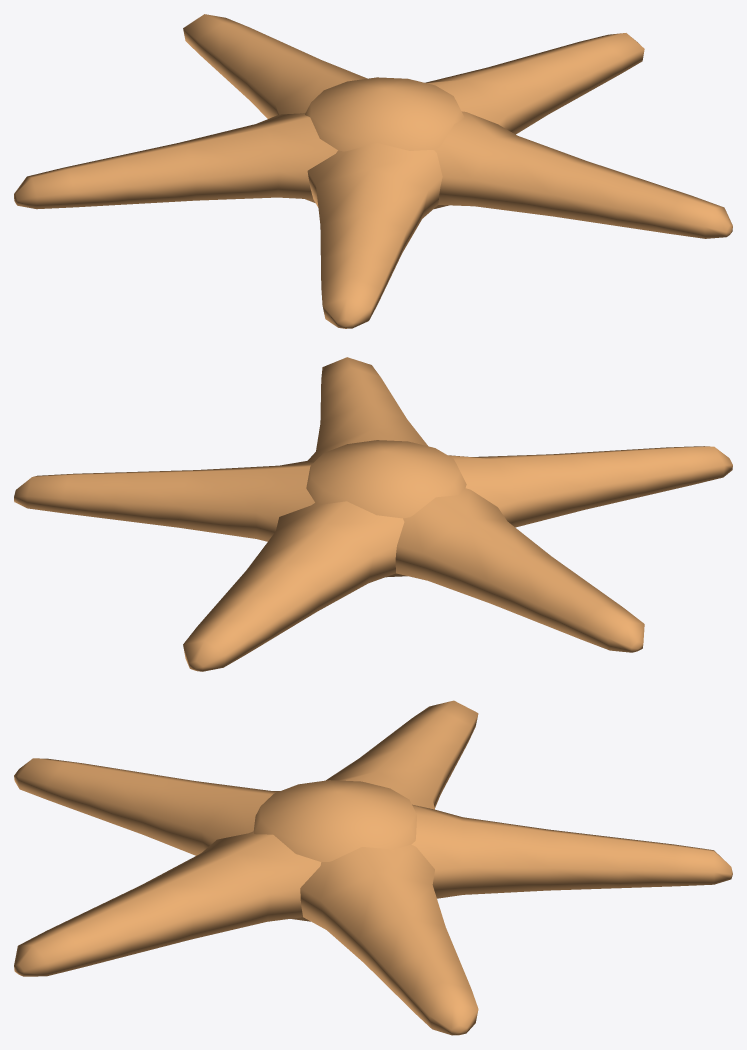
File: starfish_classic_lo.glb
3 renders of one model, top to bottom at view 1: azimuth 30°, elevation 25°; view 2: azimuth 150°, elevation 25°; view 3: azimuth 270°, elevation 25°, orthographic. The views are drawn at different scales.
Parts seen in each view (by area): view 1: starfish_classic_lo; view 2: starfish_classic_lo; view 3: starfish_classic_lo.
Part boxes in pixels (left/top/right/bottom): starfish_classic_lo: left=14, top=14, right=732, bottom=328; starfish_classic_lo: left=14, top=357, right=732, bottom=671; starfish_classic_lo: left=14, top=700, right=732, bottom=1035.
Size of the model in its own units: 0.2576 by 0.032 by 0.2455.
